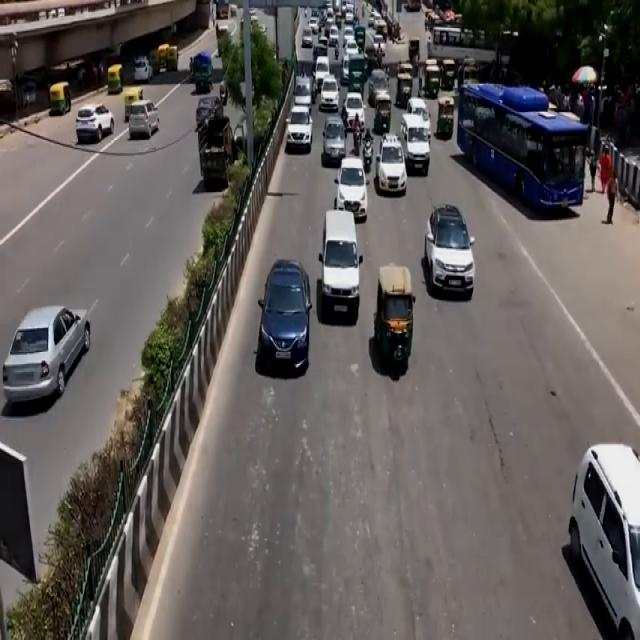BUS: (457, 74, 586, 224)
